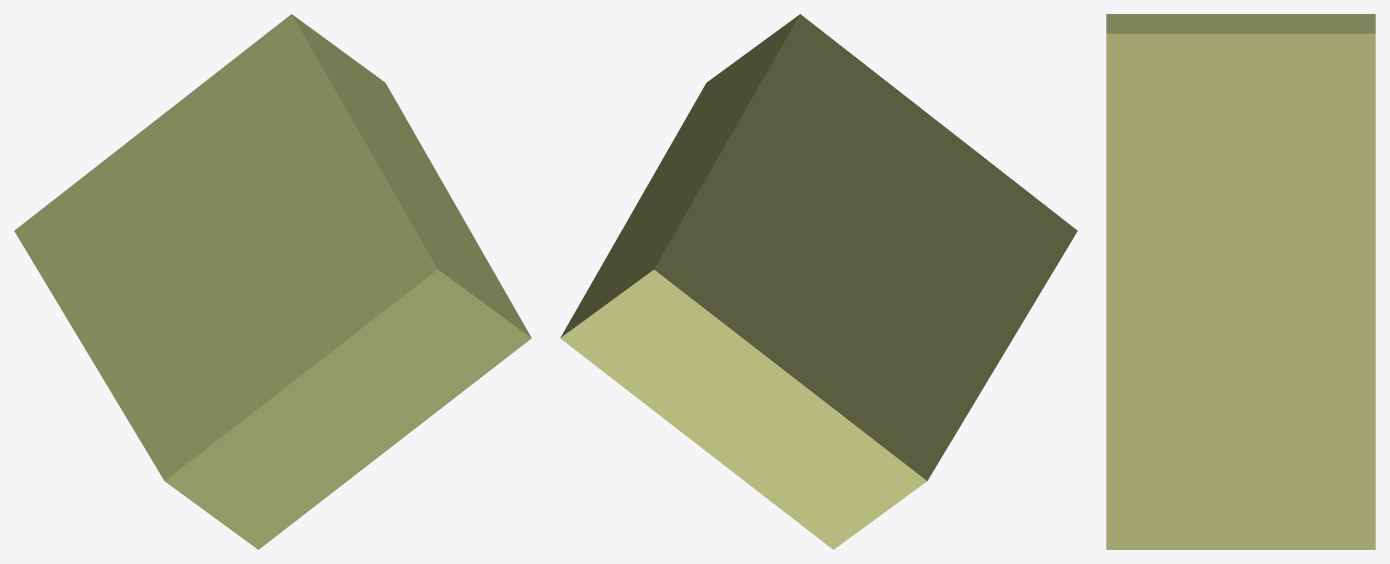
3 views of the same model, side by side, from view 1: azimuth 30°, elevation 25°; view 2: azimuth 150°, elevation 25°; view 3: azimuth 270°, elevation 25° (orthographic). The views are drawn at different scales.
Visible parts, largest first — view 1: 0_2_3_2_1_2_3_0_3; view 2: 0_2_3_2_1_2_3_0_3; view 3: 0_2_3_2_1_2_3_0_3.
Boxes of the visible parts, box(x1,y1,x2,y2) form: 0_2_3_2_1_2_3_0_3: box(14, 14, 531, 549); 0_2_3_2_1_2_3_0_3: box(560, 14, 1077, 549); 0_2_3_2_1_2_3_0_3: box(1106, 14, 1375, 549).
Size of the model in its own units: 15.63 by 15.37 by 6.
